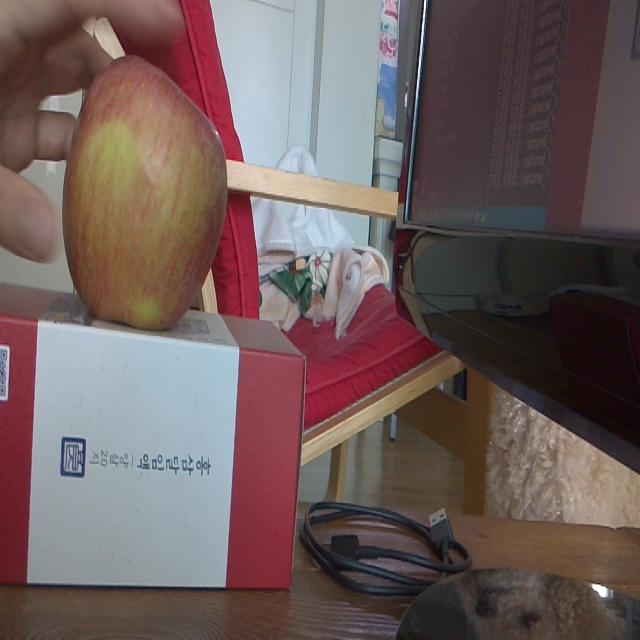apple: (62, 57, 227, 325)
